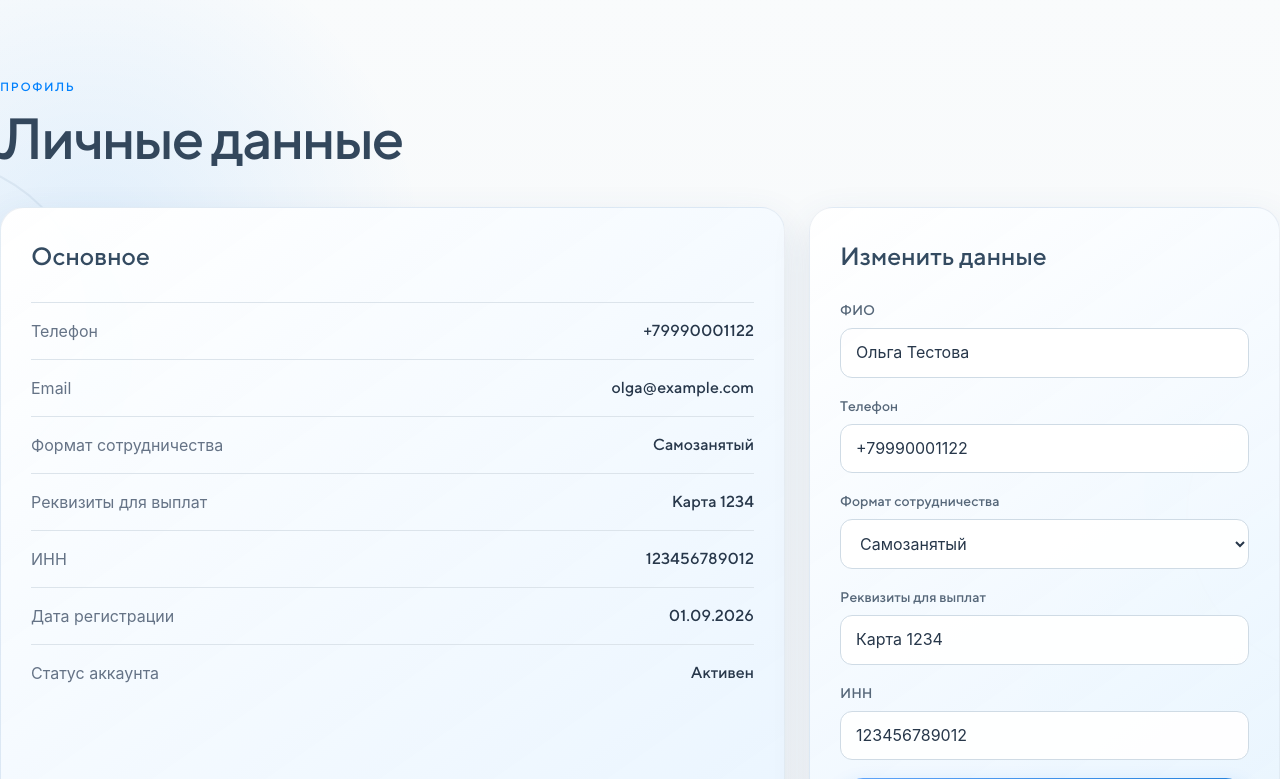
Test: ProfilePage › saves the changed data and confirms it
Replace the text in the field labelled "ФИО" with "Новое Имя" at point(1044, 353), box left=840, top=328, right=1249, bottom=378
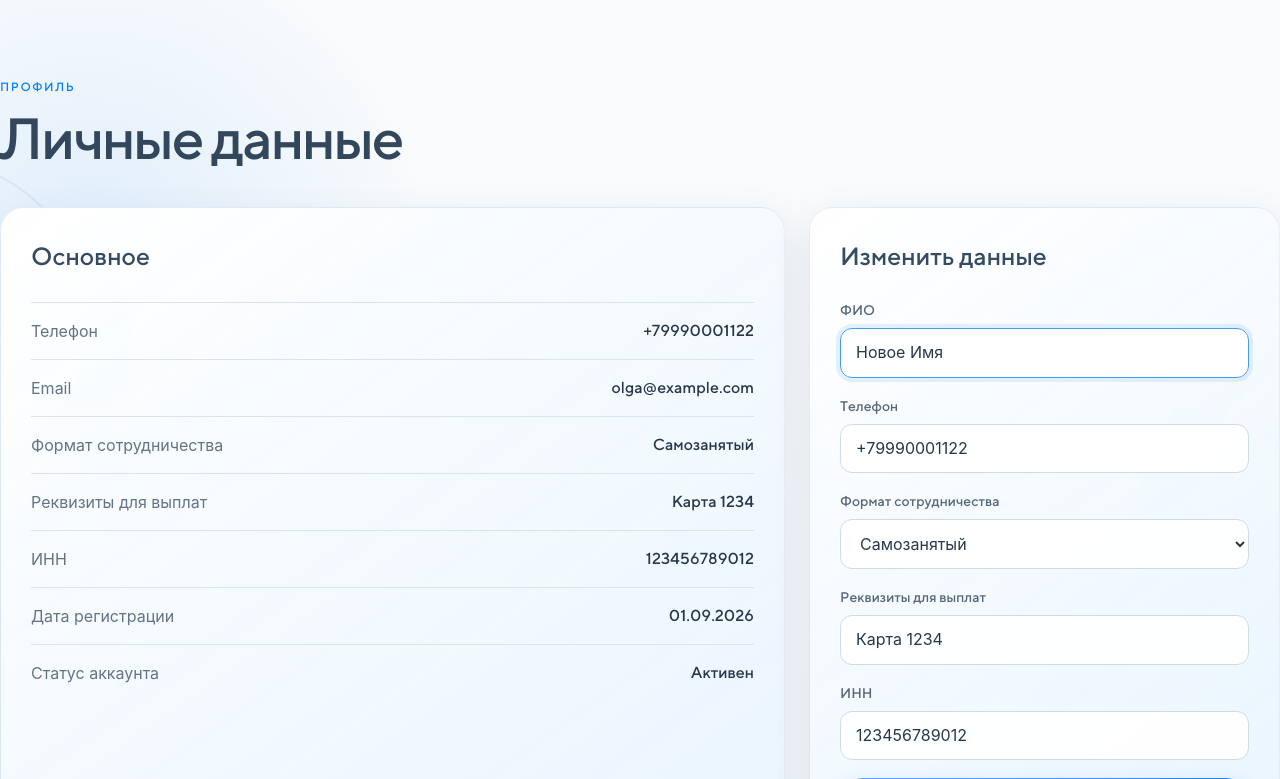
Select "Физлицо" in the dropdown labelled "Формат сотрудничества" at point(1044, 544), box left=840, top=519, right=1249, bottom=569
(page scrolled)
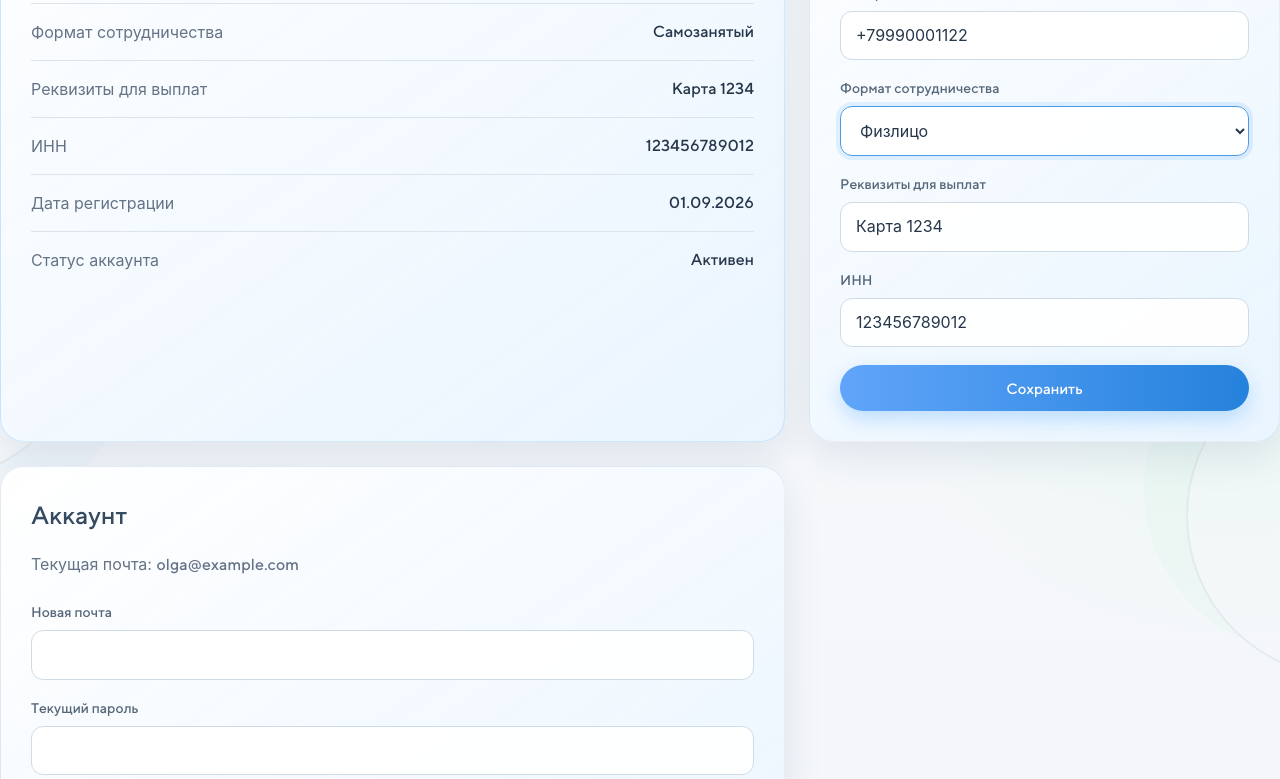
Click the button "Сохранить".
click(1044, 388)  # box left=840, top=365, right=1249, bottom=411
(page scrolled)
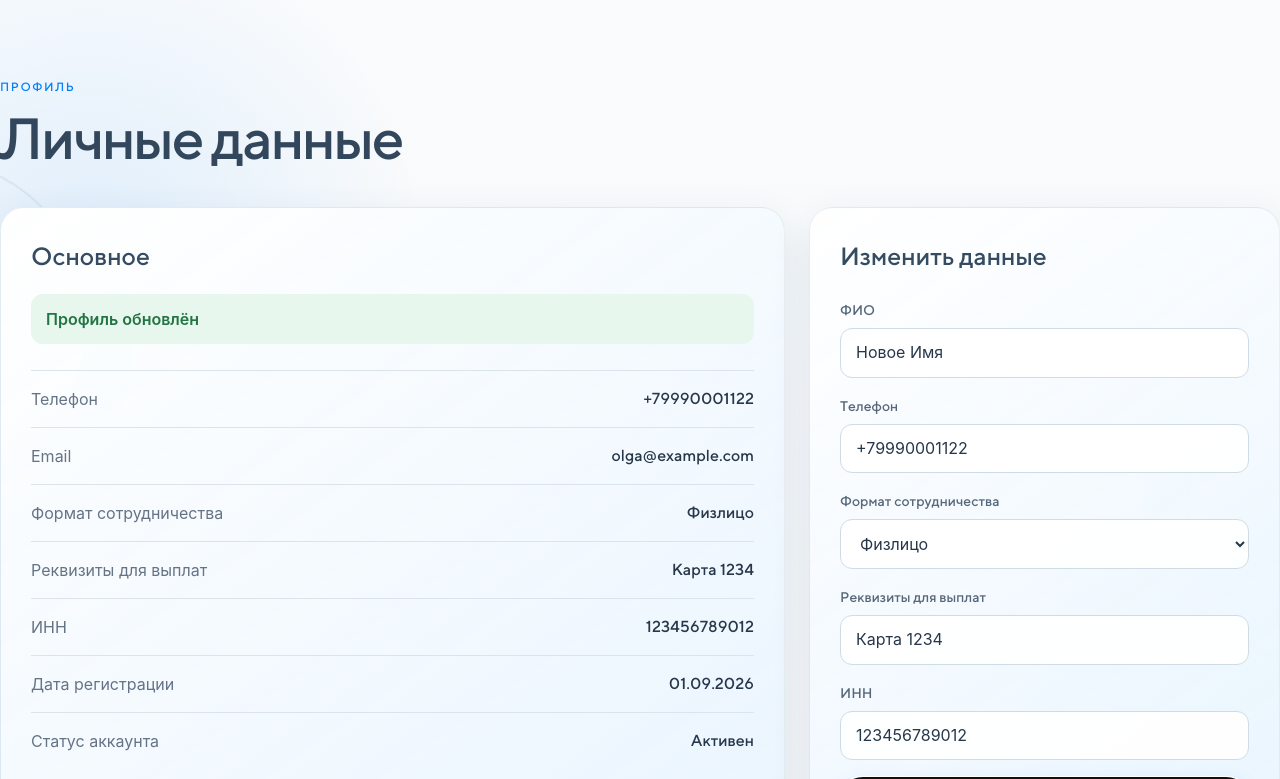
expect the text "Профиль обновлён" is shown: met, box left=31, top=294, right=754, bottom=344
